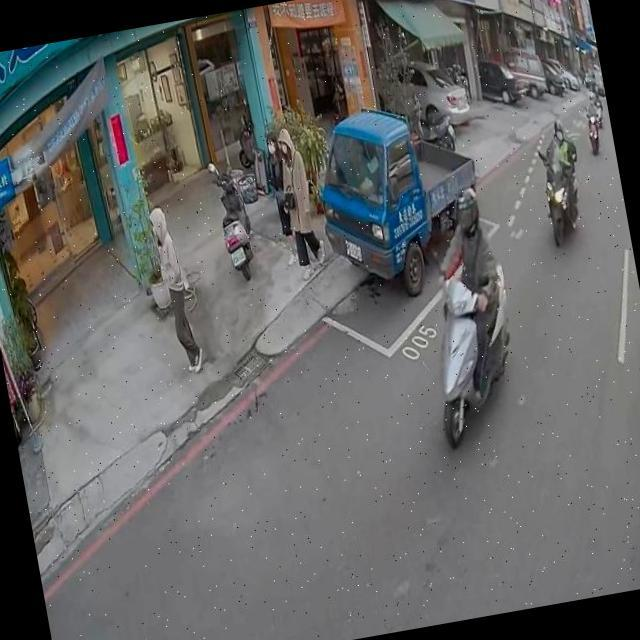person: (418, 178, 520, 406), (143, 200, 210, 380), (264, 122, 327, 274), (530, 119, 590, 238), (260, 127, 310, 266), (46, 605, 73, 640), (582, 90, 598, 118), (586, 80, 600, 104)
